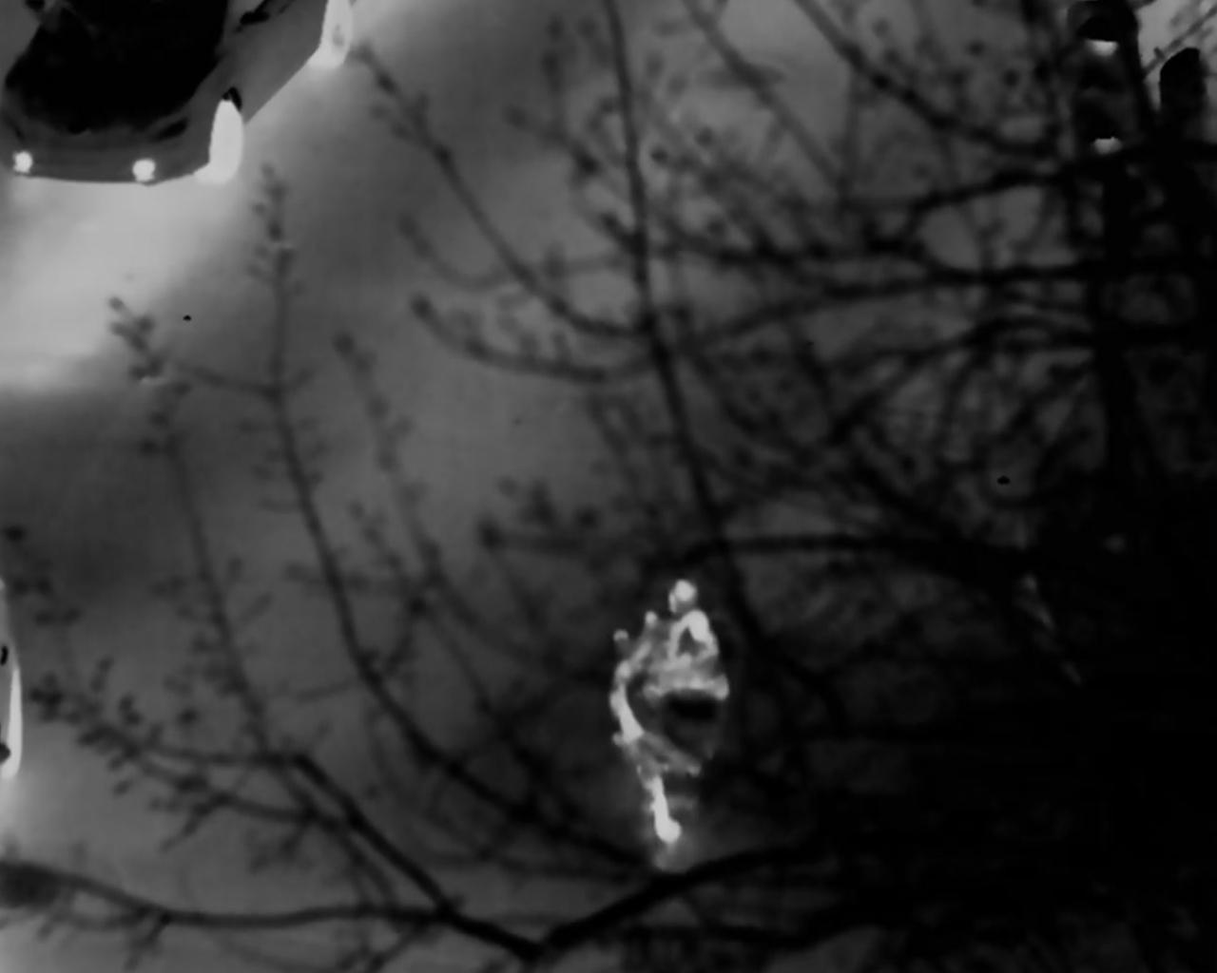person: (651, 567, 726, 787)
